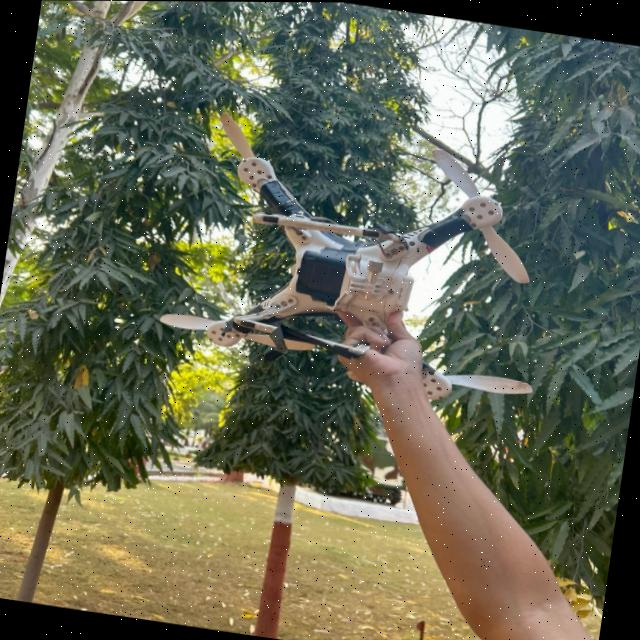drone: (112, 77, 606, 432)
